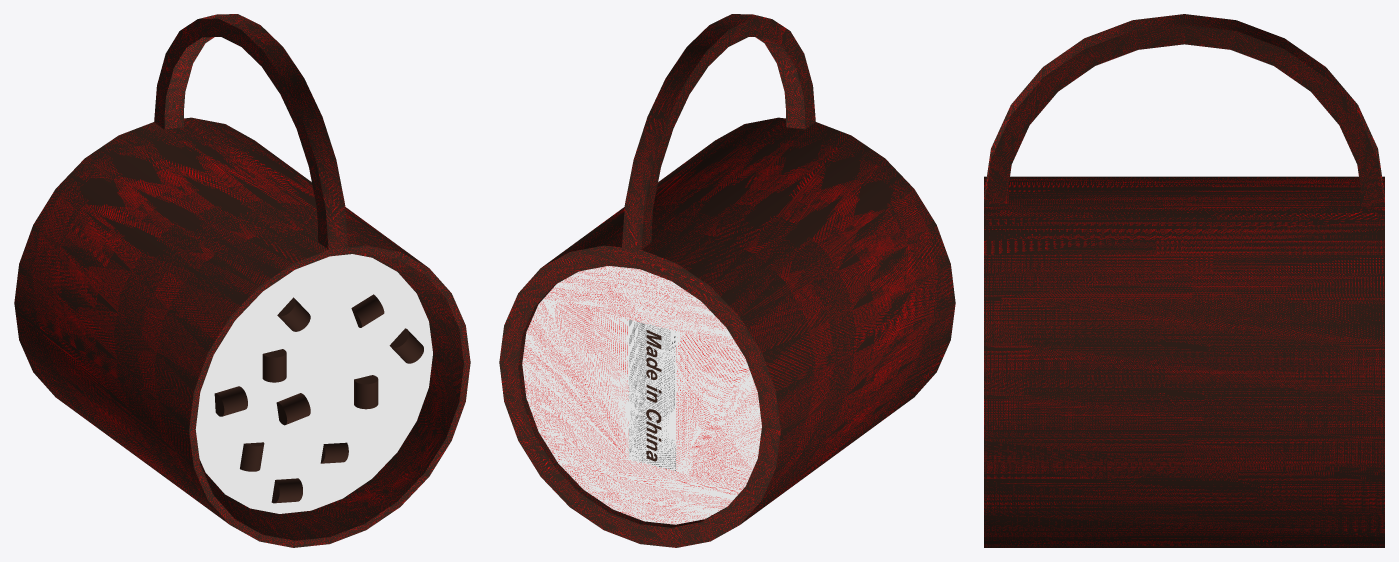
The model's file is model_scale.obj.
3 views of the same model, side by side, from view 1: azimuth 30°, elevation 25°; view 2: azimuth 150°, elevation 25°; view 3: azimuth 270°, elevation 25° (orthographic). The views are drawn at different scales.
Visible parts, largest first — view 1: mesh34_mesh34-geometry, mesh45_mesh45-geometry, mesh43_mesh43-geometry, mesh35_mesh35-geometry, mesh36_mesh36-geometry, mesh42_mesh42-geometry, mesh44_mesh44-geometry, mesh39_mesh39-geometry, mesh38_mesh38-geometry, mesh40_mesh40-geometry; view 2: mesh34_mesh34-geometry; view 3: mesh34_mesh34-geometry.
Boxes of the visible parts, x1=… form: mesh34_mesh34-geometry: x1=14, y1=14, x2=470, y2=547; mesh45_mesh45-geometry: x1=214, y1=386, x2=247, y2=416; mesh43_mesh43-geometry: x1=276, y1=393, x2=310, y2=425; mesh35_mesh35-geometry: x1=354, y1=375, x2=378, y2=409; mesh36_mesh36-geometry: x1=262, y1=349, x2=286, y2=382; mesh42_mesh42-geometry: x1=389, y1=328, x2=423, y2=363; mesh44_mesh44-geometry: x1=271, y1=478, x2=302, y2=503; mesh39_mesh39-geometry: x1=277, y1=297, x2=310, y2=331; mesh38_mesh38-geometry: x1=351, y1=294, x2=384, y2=327; mesh40_mesh40-geometry: x1=240, y1=442, x2=264, y2=471; mesh34_mesh34-geometry: x1=499, y1=14, x2=955, y2=547; mesh34_mesh34-geometry: x1=984, y1=14, x2=1384, y2=547.
Size of the model in its own units: 0.0888 by 0.1358 by 0.0955.
